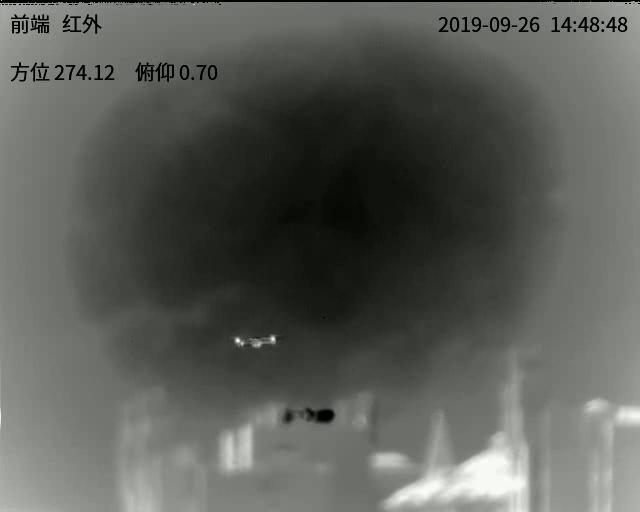DRONE: (231, 333, 278, 350)
